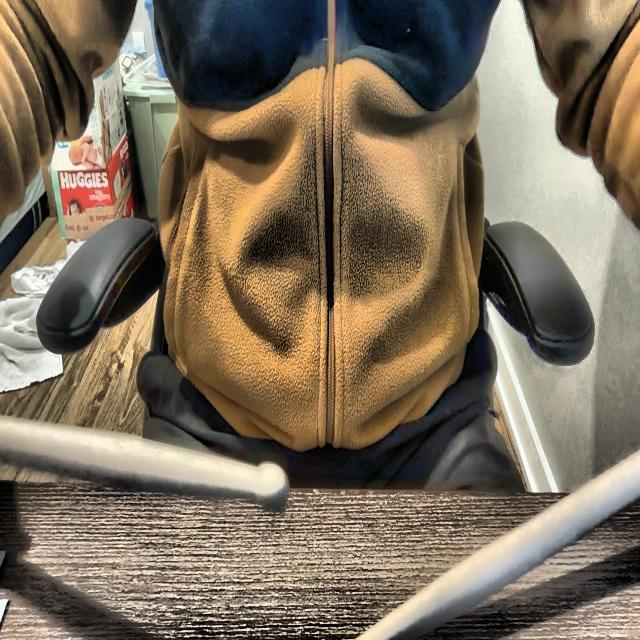Drumstick-Heads: (252, 446, 291, 518)
